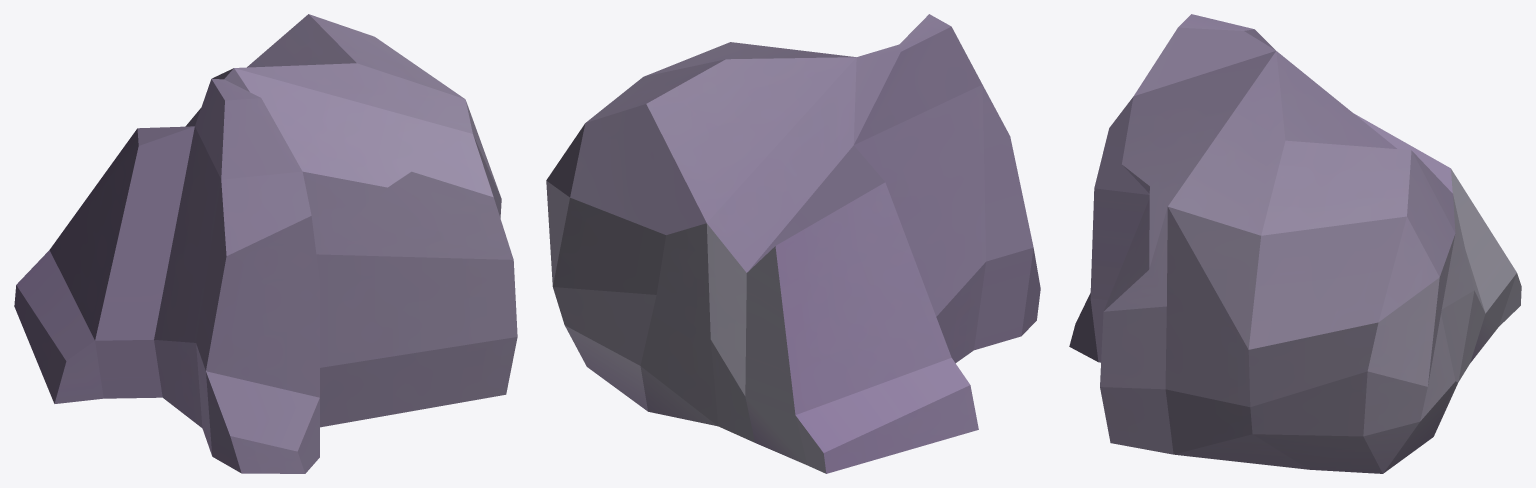
File: Rock_Boulder03.fbx
3 renders of one model, left to right at view 1: azimuth 30°, elevation 25°; view 2: azimuth 150°, elevation 25°; view 3: azimuth 270°, elevation 25°, orthographic. The views are drawn at different scales.
Visible parts, largest first — view 1: Big Rock2; view 2: Big Rock2; view 3: Big Rock2.
Boxes of the visible parts, bbox=[...] form: Big Rock2: bbox=[14, 14, 517, 473]; Big Rock2: bbox=[546, 14, 1040, 473]; Big Rock2: bbox=[1069, 14, 1521, 473].
Size of the model in its own units: 145 by 116 by 141.
